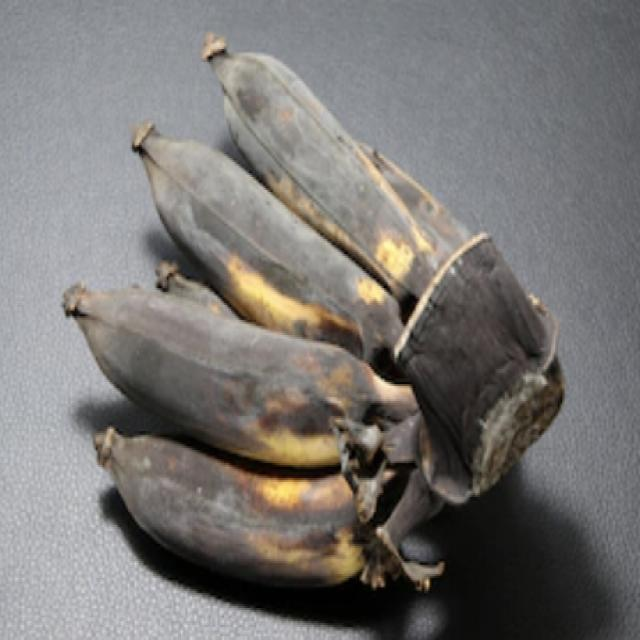rotten-banana: (207, 42, 487, 252), (106, 459, 389, 590), (93, 321, 375, 446), (156, 166, 384, 294)
